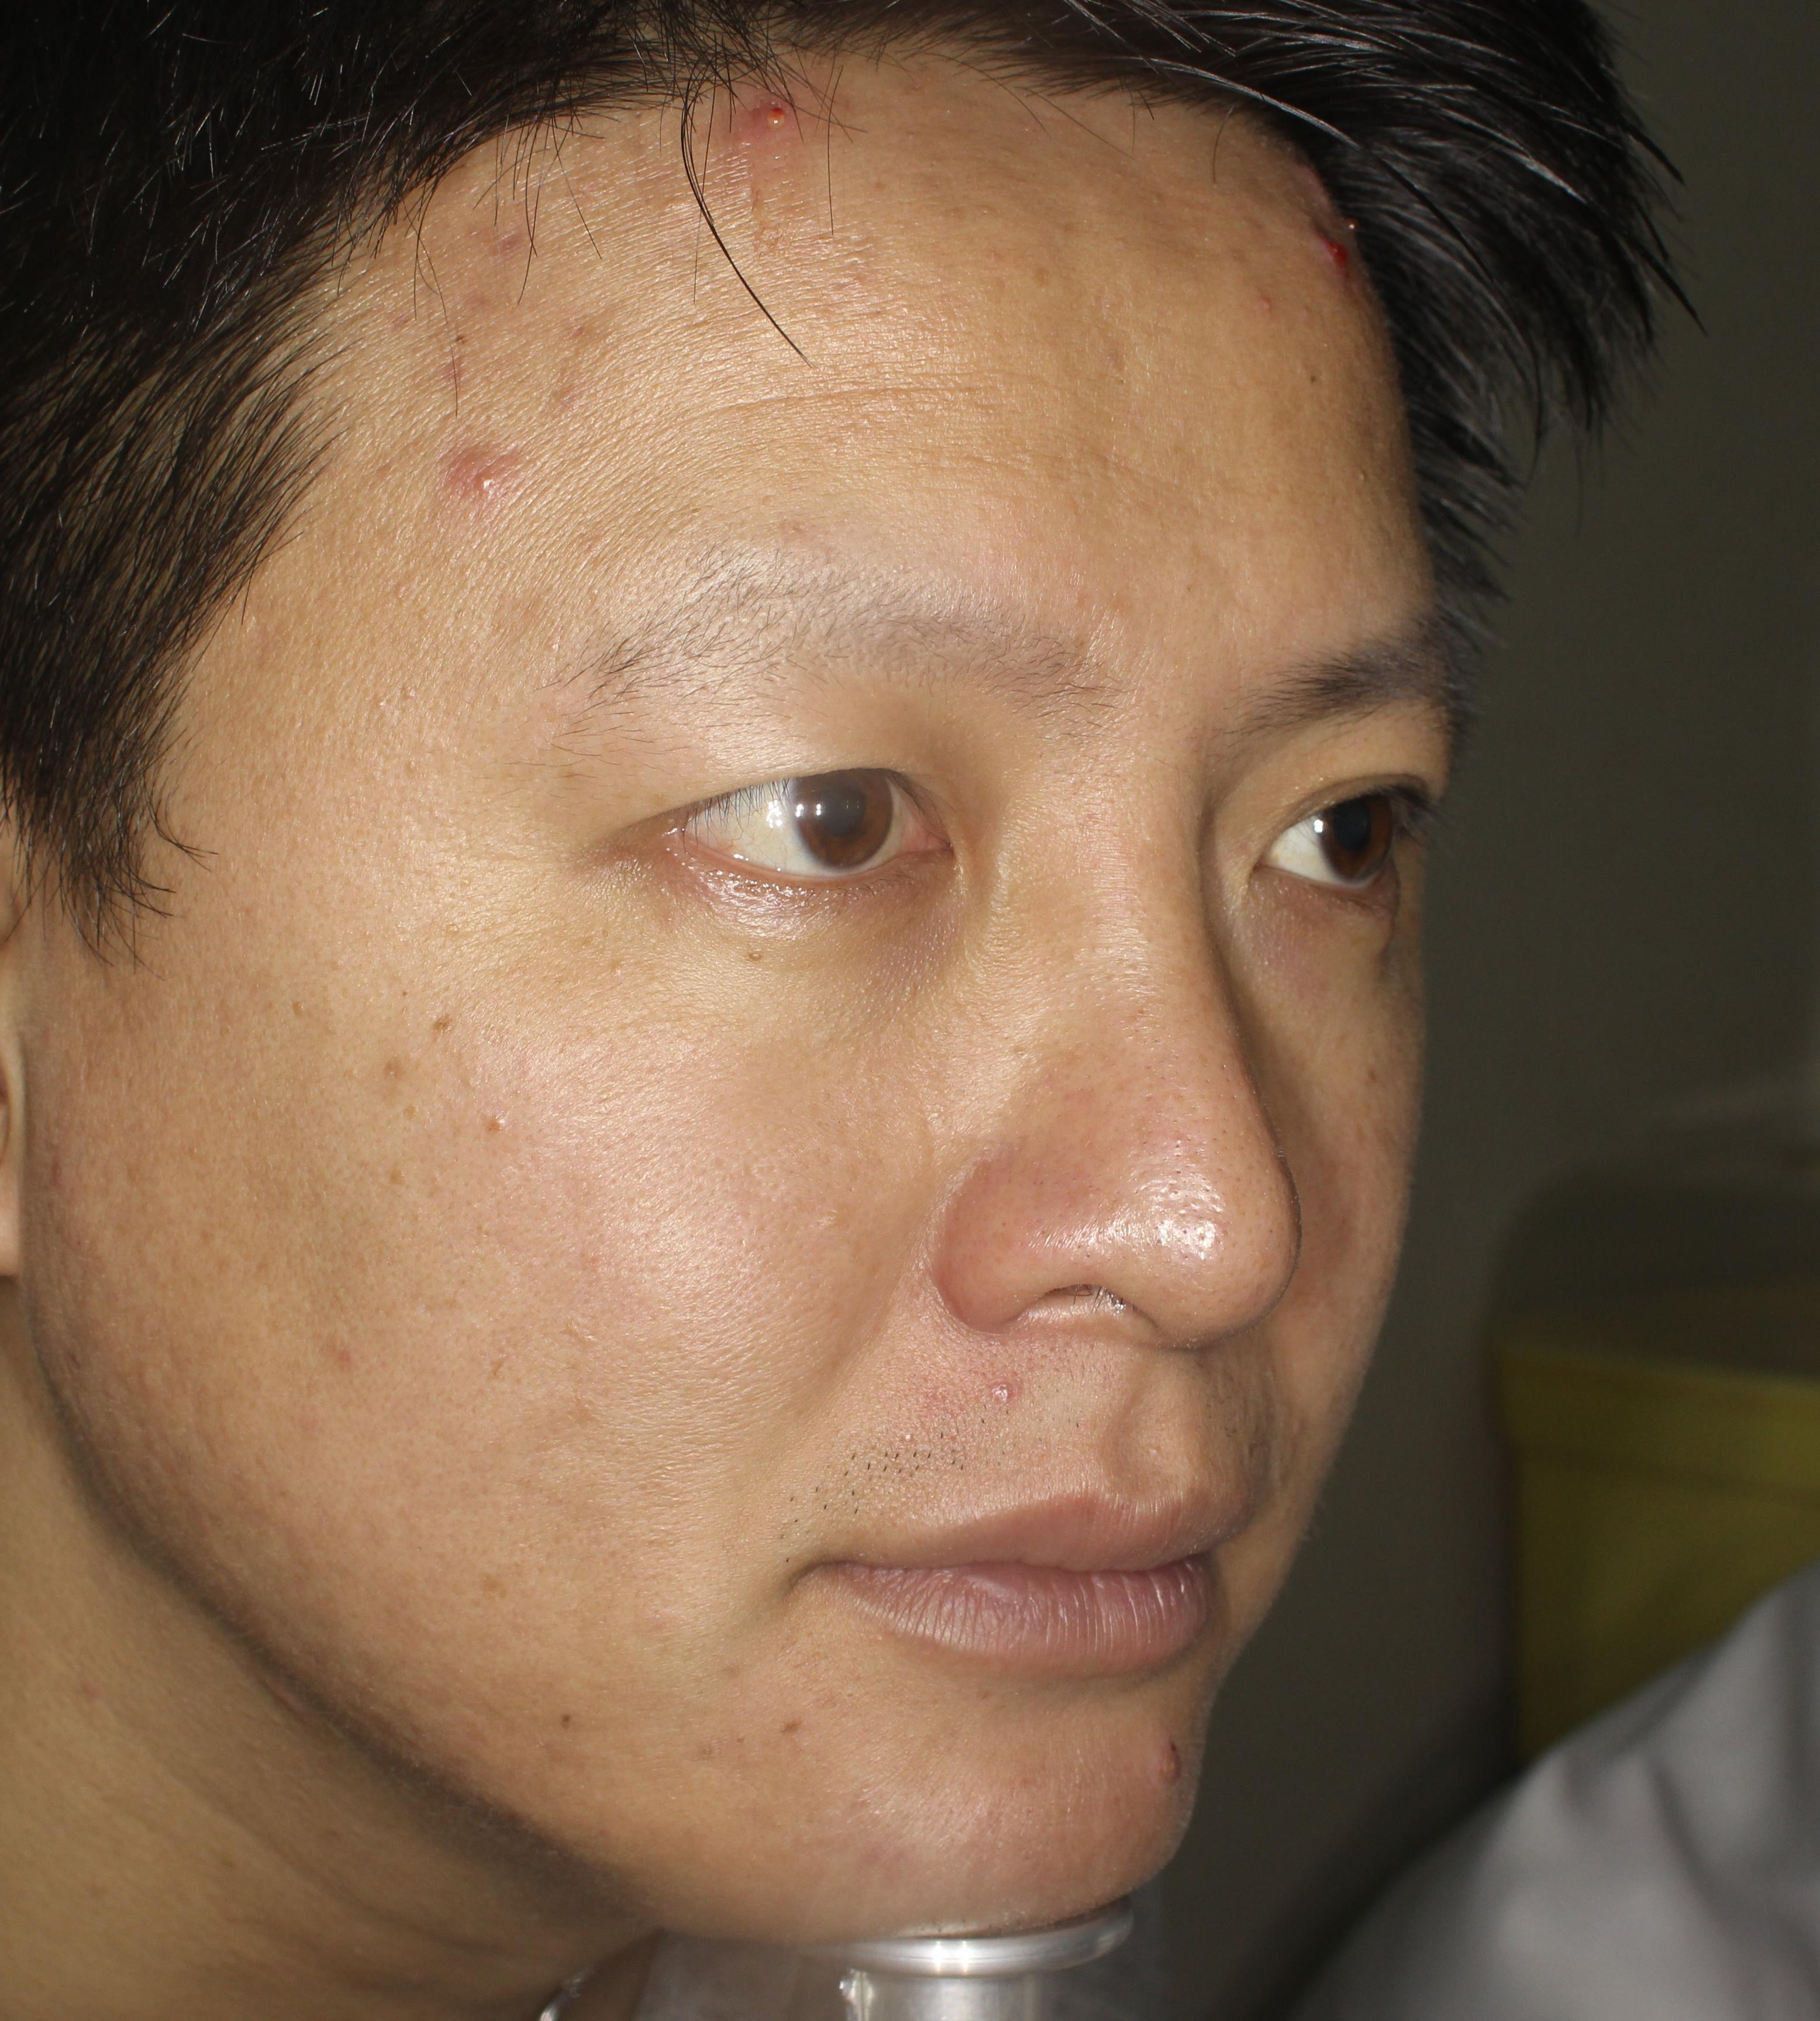fore: (409, 385, 557, 541), (699, 67, 829, 165), (1123, 1733, 1228, 1786)
